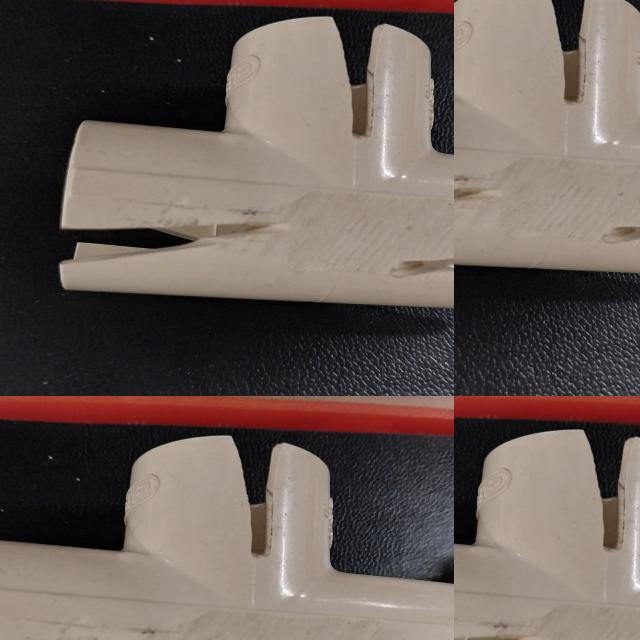Defective: (290, 252, 454, 311), (594, 428, 640, 560), (187, 142, 341, 181), (362, 166, 454, 225), (0, 183, 87, 225)
T Joint: (0, 43, 454, 326), (454, 427, 640, 640), (595, 433, 640, 640)
